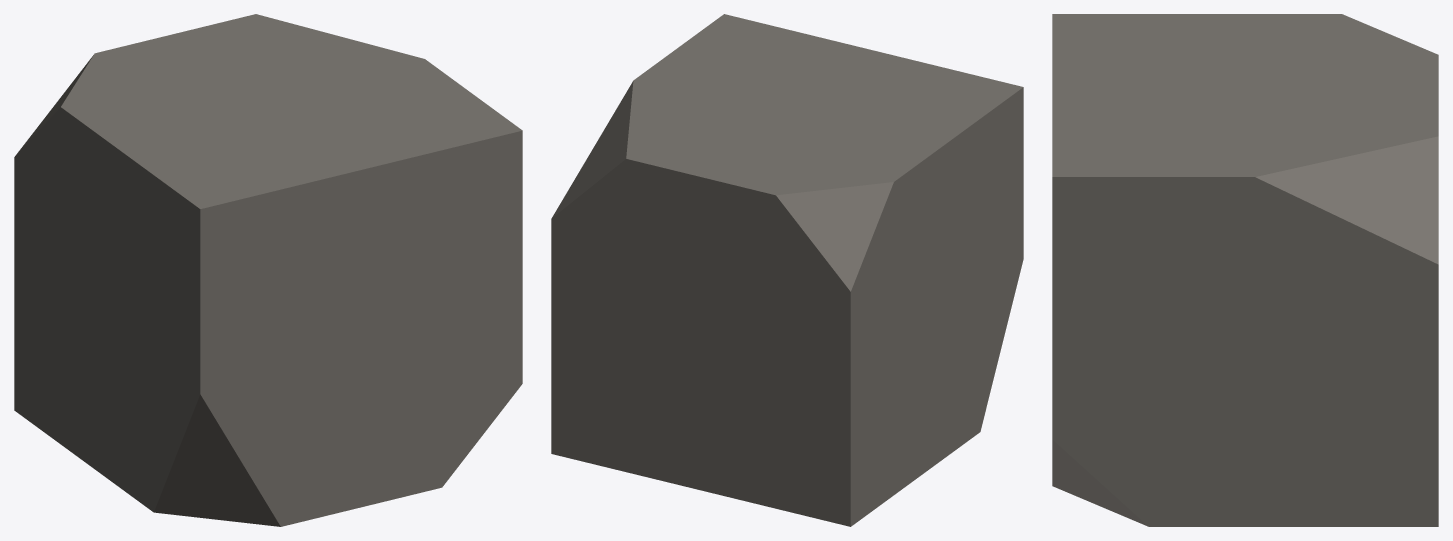
File: SM_Env_Rock_Square_Simple_02.glb
3 views of the same model, side by side, from view 1: azimuth 30°, elevation 25°; view 2: azimuth 150°, elevation 25°; view 3: azimuth 270°, elevation 25° (orthographic). The views are drawn at different scales.
Parts seen in each view (by area): view 1: SM_Env_Rock_Square_Simple_02; view 2: SM_Env_Rock_Square_Simple_02; view 3: SM_Env_Rock_Square_Simple_02.
Boxes of the visible parts, box(x1,y1,x2,y2) form: SM_Env_Rock_Square_Simple_02: box(14, 14, 522, 526); SM_Env_Rock_Square_Simple_02: box(551, 14, 1023, 526); SM_Env_Rock_Square_Simple_02: box(1052, 14, 1438, 526).
Size of the model in its own units: 0.00404 by 0.00404 by 0.00404.
Materials: 1 (1 with a texture image).
